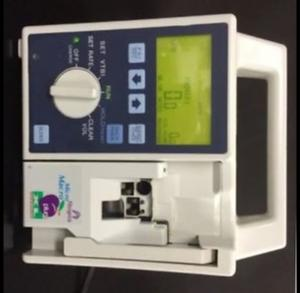plumxl1: (22, 13, 287, 276)
